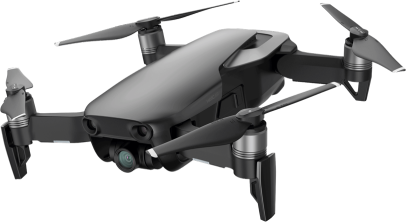drone: (1, 1, 405, 222)
